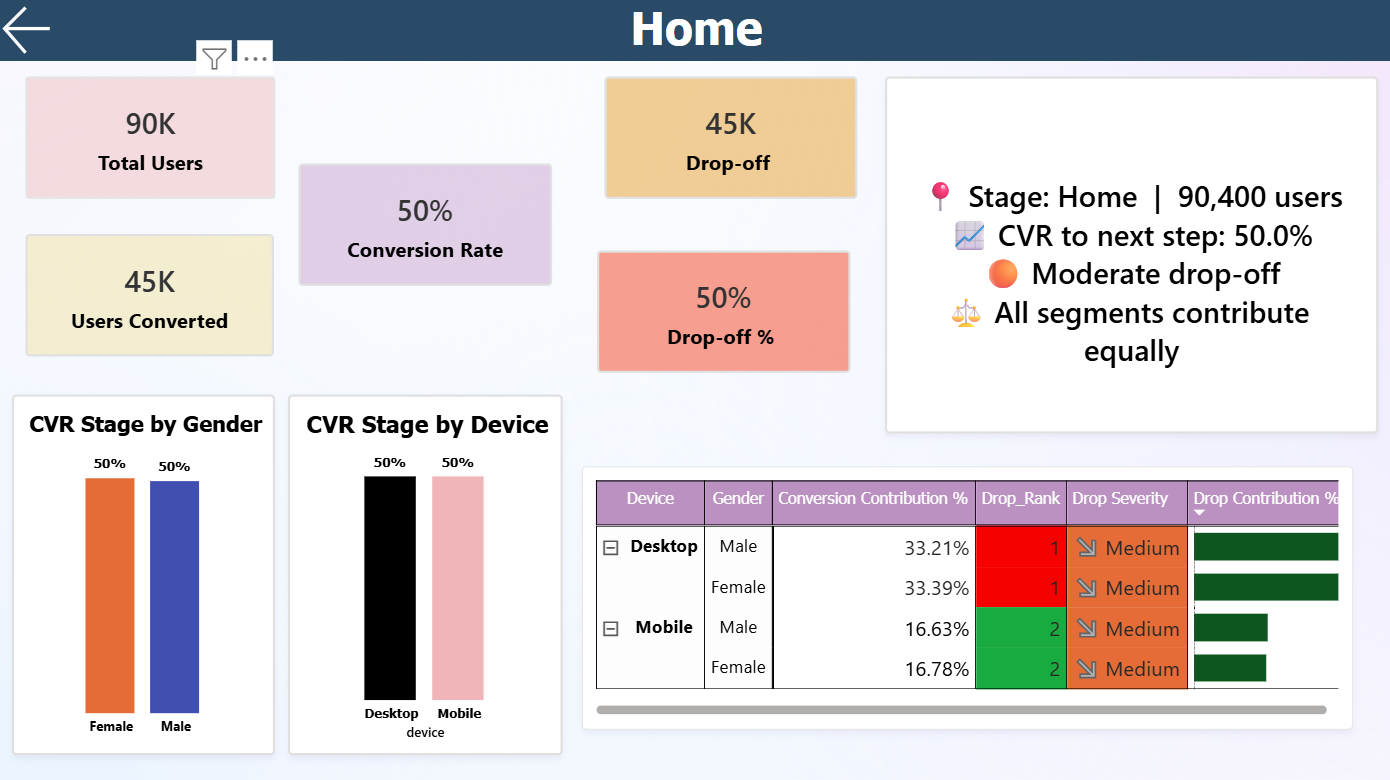

This screenshot's page, from the dashboard's own definition file:
{"tool":"powerbi","page":{"name":"Stage Deep Dive","canvas":[1280,720],"ordinal":3},"visuals":[{"type":"textbox","box":[0,0,1280,55.4],"z":0},{"type":"card","title":"TOTAL USERS","fields":{"Values":["Measure_Table.Total Users"]},"box":[25.8,69.7,228.7,112.1],"z":1000},{"type":"card","title":"TOTAL USERS","fields":{"Values":["Measure_Table.Users_Converted"]},"box":[25.8,213.6,227.2,112.1],"z":2000},{"type":"card","title":"TOTAL USERS","fields":{"Values":["Measure_Table.Drop-off Stage"]},"box":[555.9,69.7,231,112.1],"z":3000},{"type":"card","title":"TOTAL USERS","fields":{"Values":["Measure_Table.Drop-off % Stage"]},"box":[548.4,228.7,231.8,112.1],"z":4000},{"type":"clusteredColumnChart","title":"CVR Stage by Device","fields":{"Category":["funnel_data.device"],"Y":["Measure_Table.CVR Stage"]},"box":[266.6,360.5,251.5,330.2],"z":5000},{"type":"clusteredColumnChart","fields":{"Category":["funnel_data.sex"],"Y":["Measure_Table.CVR Stage"]},"box":[13.6,360.5,240.9,330.2],"z":6000},{"type":"actionButton","box":[0,0,61.6,55.3],"z":7000},{"type":"card","title":"TOTAL USERS","fields":{"Values":["Measure_Table.CVR Stage"]},"box":[275.7,150,231.8,112.1],"z":8000},{"type":"pivotTable","fields":{"Values":["Measure_Table.Conversion Contribution %","Measure_Table.Drop_Rank","Measure_Table.Drop Severity","Measure_Table.Drop Contribution %"],"Rows":["funnel_data.device","funnel_data.sex"]},"box":[535,427.2,705.6,240.5],"z":9000},{"type":"card","fields":{"Values":["Measure_Table.Insight Text Stage"]},"box":[812.4,70,451.5,326.6],"z":10000}]}

Visuals, with their boxes in screenshot pixels (x1, y1, x2, y2), scaled from the page's 1280x720 canvas onto the 1390x780 screenshot:
textbox: pyautogui.locateOnScreen(0, 0, 1389, 60)
"TOTAL USERS" card: pyautogui.locateOnScreen(28, 76, 276, 197)
"TOTAL USERS" card: pyautogui.locateOnScreen(28, 231, 275, 353)
"TOTAL USERS" card: pyautogui.locateOnScreen(604, 76, 855, 197)
"TOTAL USERS" card: pyautogui.locateOnScreen(596, 248, 847, 369)
"CVR Stage by Device" clusteredColumnChart: pyautogui.locateOnScreen(290, 391, 563, 748)
clusteredColumnChart - funnel_data.sex x Measure_Table.CVR Stage: pyautogui.locateOnScreen(15, 391, 276, 748)
actionButton: pyautogui.locateOnScreen(0, 0, 67, 60)
"TOTAL USERS" card: pyautogui.locateOnScreen(299, 162, 551, 284)
pivotTable - Measure_Table.Conversion Contribution % x Measure_Table.Drop_Rank: pyautogui.locateOnScreen(581, 463, 1347, 723)
card - Measure_Table.Insight Text Stage: pyautogui.locateOnScreen(882, 76, 1373, 430)
